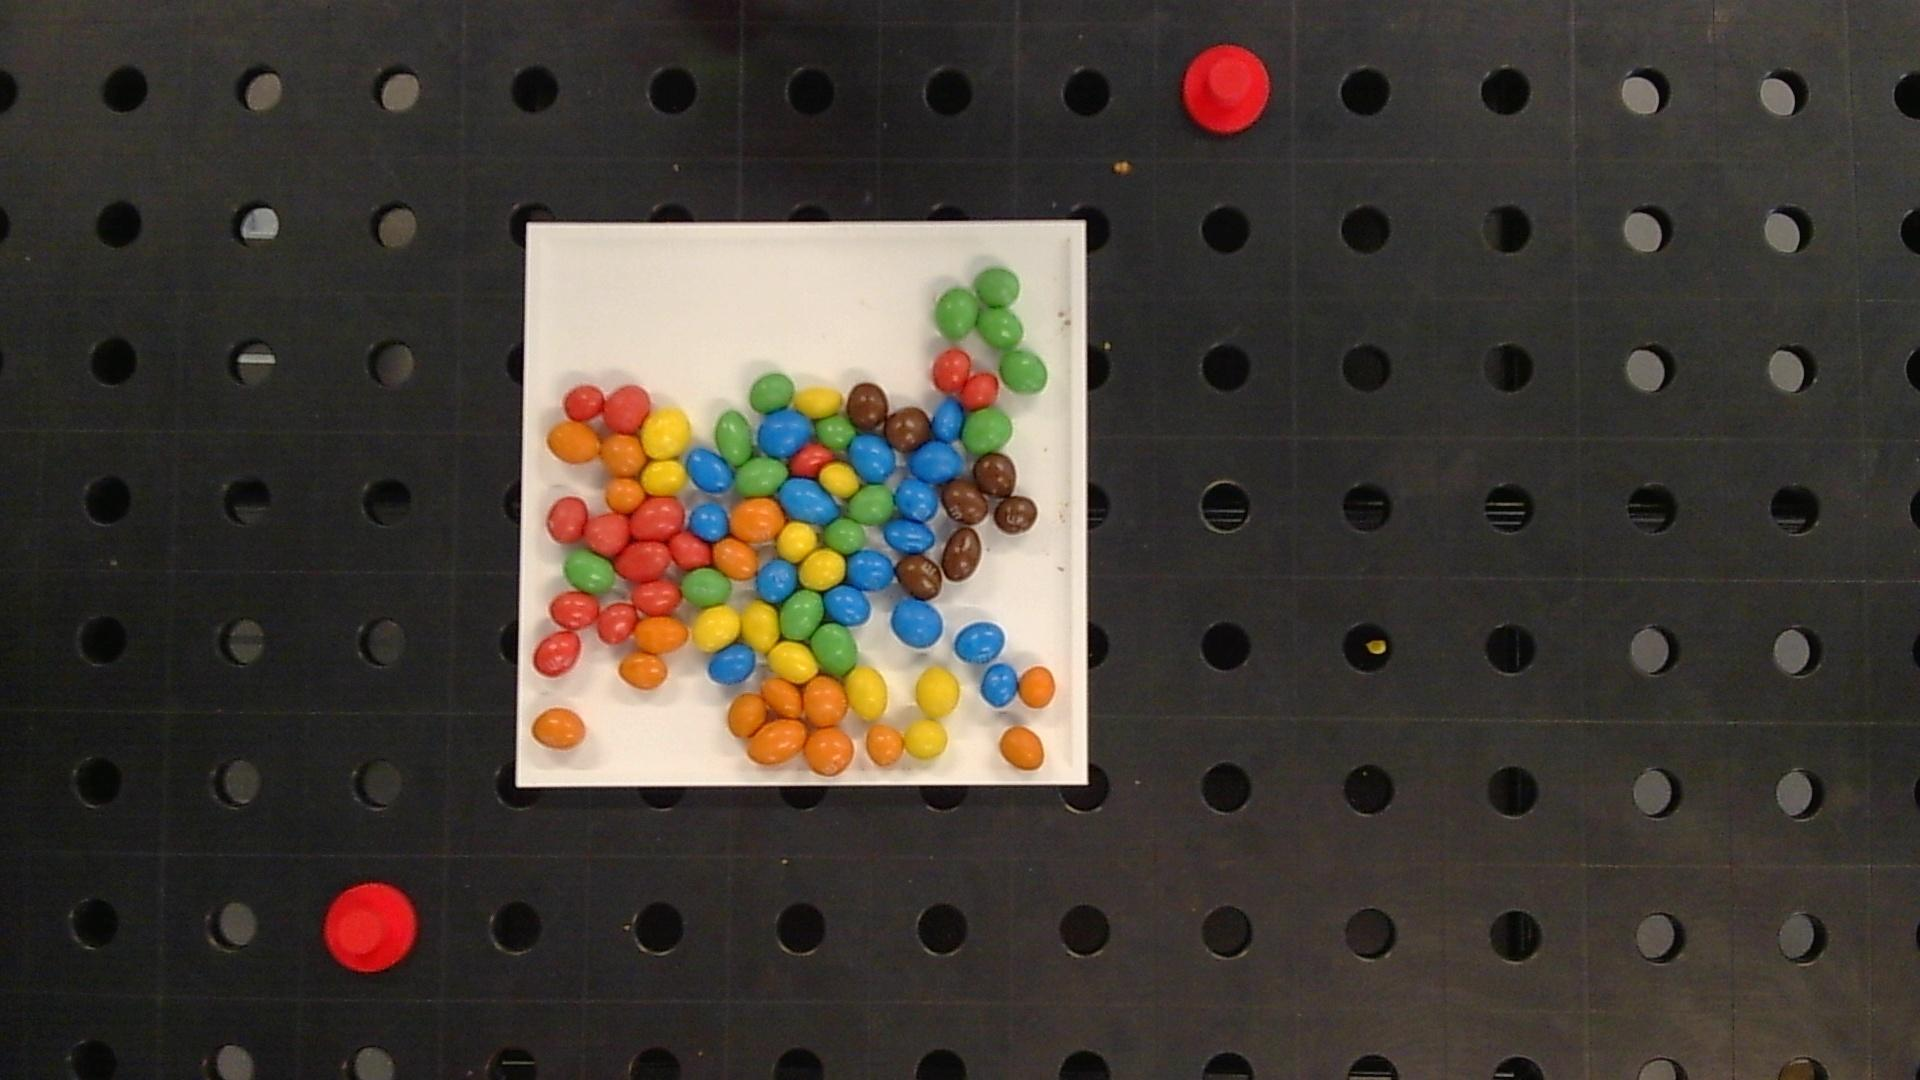blue: (885, 520, 942, 599), (779, 476, 840, 522), (758, 409, 812, 456), (891, 599, 943, 647), (847, 550, 895, 595), (909, 442, 961, 483), (849, 434, 894, 481), (955, 621, 1005, 663), (707, 644, 757, 684), (895, 477, 940, 522), (687, 448, 732, 492), (824, 587, 870, 625), (884, 518, 935, 553), (757, 559, 798, 601), (980, 665, 1018, 707), (688, 504, 729, 539), (934, 400, 964, 442)
brown: (940, 527, 981, 582), (942, 479, 988, 525), (885, 406, 931, 451), (897, 555, 942, 600), (847, 382, 887, 431), (975, 454, 1015, 497), (994, 496, 1038, 534)
green: (812, 624, 857, 674), (935, 289, 978, 340), (564, 550, 616, 592), (965, 409, 1013, 454), (1000, 351, 1048, 393), (781, 591, 823, 638), (736, 456, 787, 495), (715, 410, 752, 463), (682, 568, 732, 607), (978, 307, 1023, 348), (975, 268, 1019, 307), (848, 485, 894, 524), (750, 373, 794, 411), (824, 517, 866, 553), (815, 414, 855, 448)
orange: (746, 719, 806, 765), (804, 728, 855, 774), (531, 708, 585, 749), (729, 500, 783, 541), (547, 422, 600, 462), (804, 678, 847, 725), (634, 616, 688, 653), (1000, 727, 1044, 770), (601, 434, 645, 476), (713, 538, 758, 579), (620, 653, 669, 690), (864, 724, 905, 765), (728, 694, 766, 736), (762, 678, 802, 715), (1019, 666, 1055, 707), (607, 479, 644, 513)
red: (632, 498, 683, 539), (617, 542, 670, 580), (605, 385, 650, 430), (534, 632, 580, 675), (585, 513, 629, 555), (547, 497, 587, 542), (550, 592, 599, 628), (632, 580, 680, 613), (596, 604, 637, 642), (934, 349, 971, 392), (563, 385, 605, 421), (670, 533, 711, 567), (790, 444, 833, 475), (961, 373, 998, 407)
yellow: (642, 410, 690, 458), (847, 666, 887, 720), (915, 667, 960, 716), (692, 605, 740, 650), (769, 642, 818, 682), (800, 550, 845, 589), (741, 603, 778, 650), (777, 522, 819, 560), (905, 720, 947, 758), (642, 460, 686, 495), (794, 388, 843, 417), (822, 463, 860, 497)
